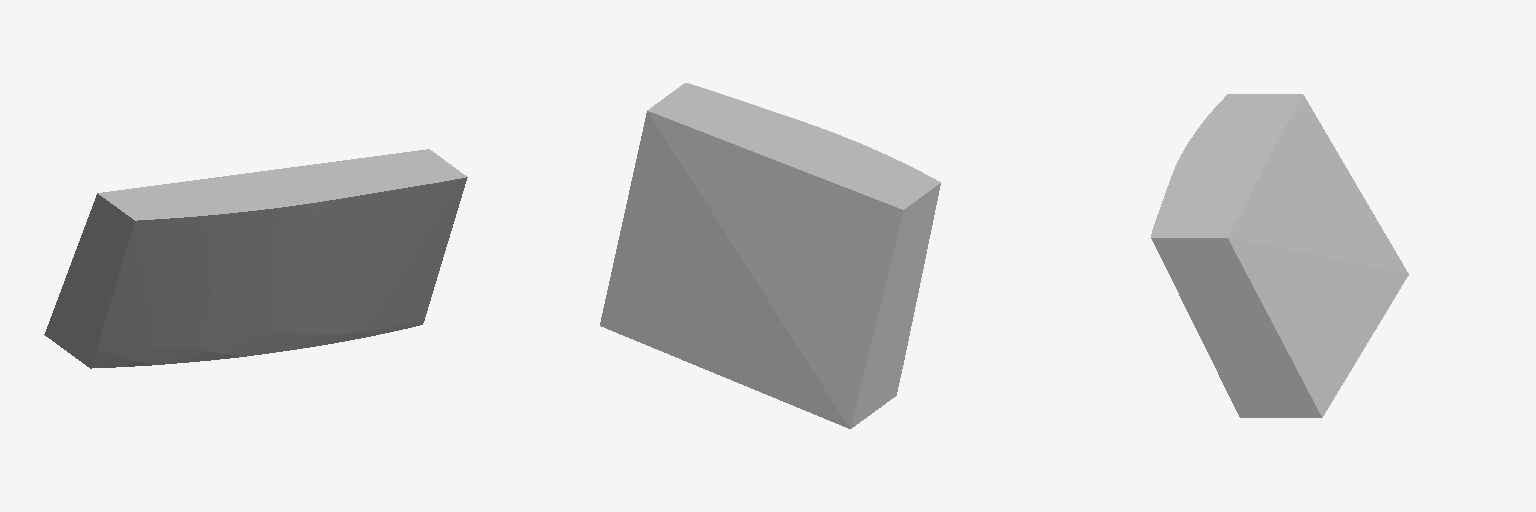
The model's file is skillet_collision_32.obj.
3 renders of one model, left to right at view 1: azimuth 30°, elevation 25°; view 2: azimuth 150°, elevation 25°; view 3: azimuth 270°, elevation 25°, orthographic.
Bounding box in the file's own units: 0.0387 × 0.0227 × 0.0294.